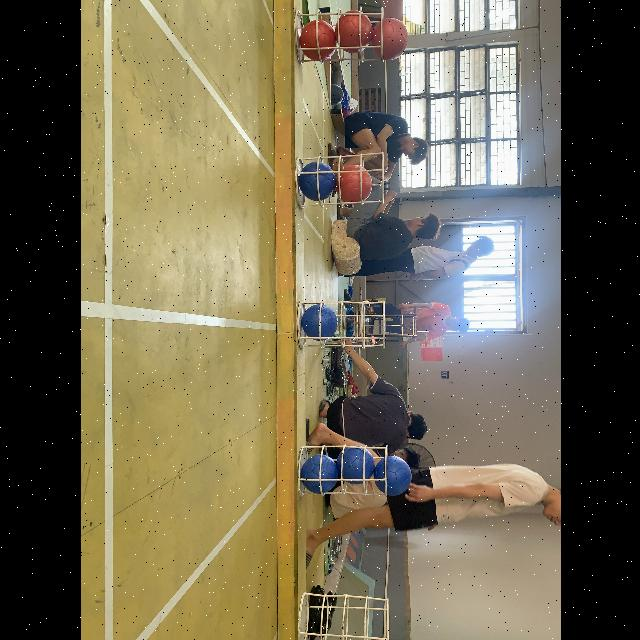B: (296, 162, 336, 202), (299, 455, 337, 493), (372, 456, 410, 494), (339, 445, 373, 485), (301, 305, 337, 341)
R: (334, 11, 372, 53), (299, 20, 335, 60), (372, 18, 406, 59), (336, 164, 370, 202)
